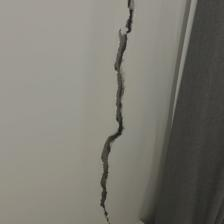Medium: (87, 9, 134, 212)
